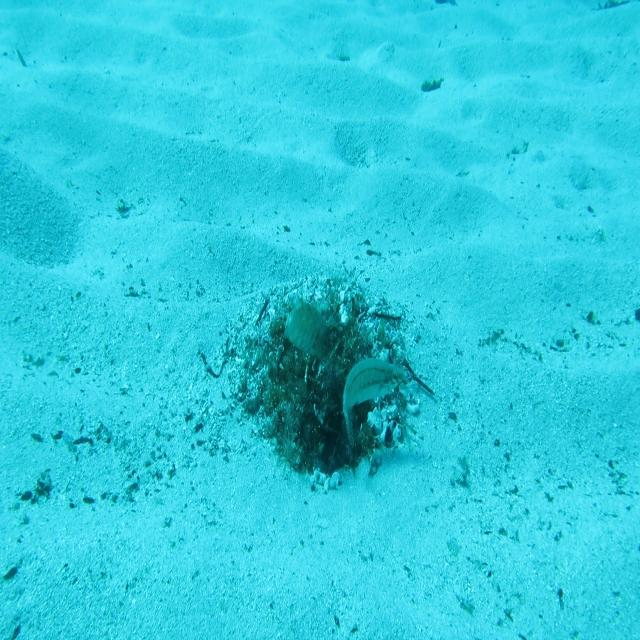NIP_CORE: (281, 290, 331, 363)
female: (342, 351, 408, 451)
nest: (215, 253, 430, 508)
vegetation: (419, 78, 445, 93)
